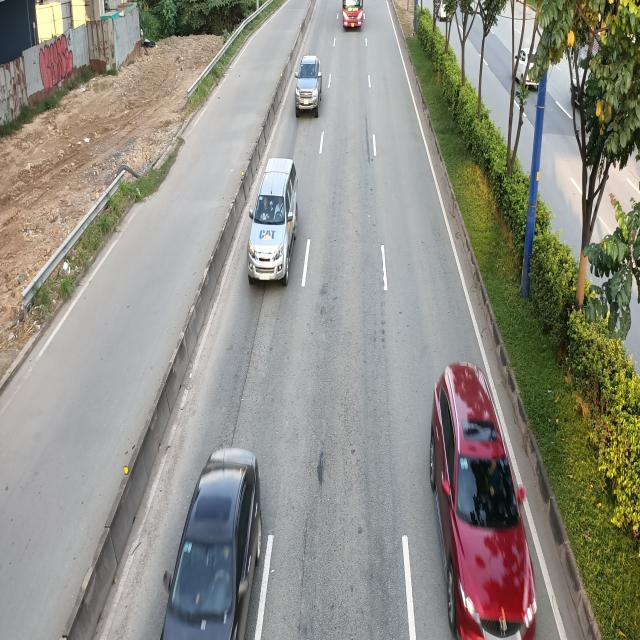car: (424, 364, 536, 640), (158, 446, 274, 638), (250, 158, 299, 284), (295, 54, 323, 114)
